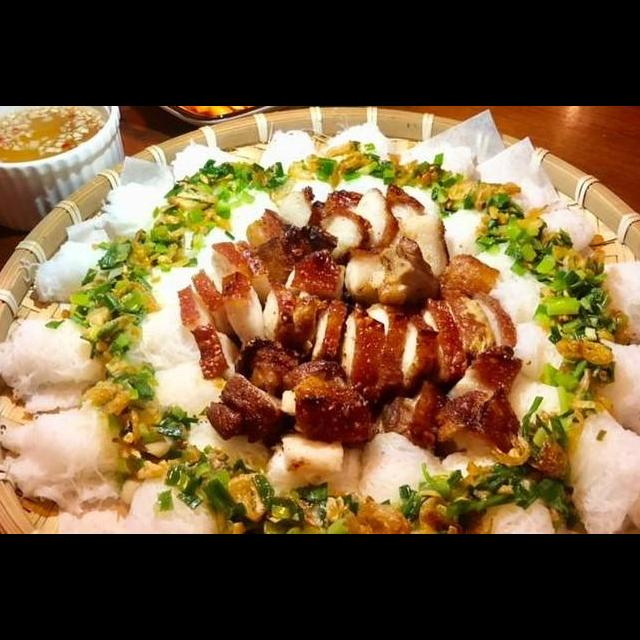banh hoi: (496, 366, 640, 534), (120, 411, 278, 534), (0, 387, 145, 518), (28, 178, 168, 313), (504, 317, 640, 437), (482, 253, 640, 346), (464, 201, 600, 300), (0, 308, 119, 415), (165, 139, 284, 244), (350, 426, 460, 534), (438, 439, 562, 534), (434, 175, 552, 264), (390, 137, 480, 230), (112, 295, 206, 378), (254, 125, 340, 210), (316, 120, 402, 204), (144, 360, 230, 434), (122, 262, 228, 313)
banh hoi heo quay: (0, 136, 640, 534), (15, 138, 640, 534)
thit heo quay: (354, 340, 526, 460), (206, 205, 350, 313), (313, 204, 442, 316), (336, 296, 444, 408), (419, 286, 522, 388), (272, 355, 380, 449), (172, 266, 248, 390), (316, 178, 429, 261), (260, 281, 350, 372), (204, 372, 292, 449), (392, 210, 453, 289), (432, 250, 504, 315), (216, 267, 268, 349)
